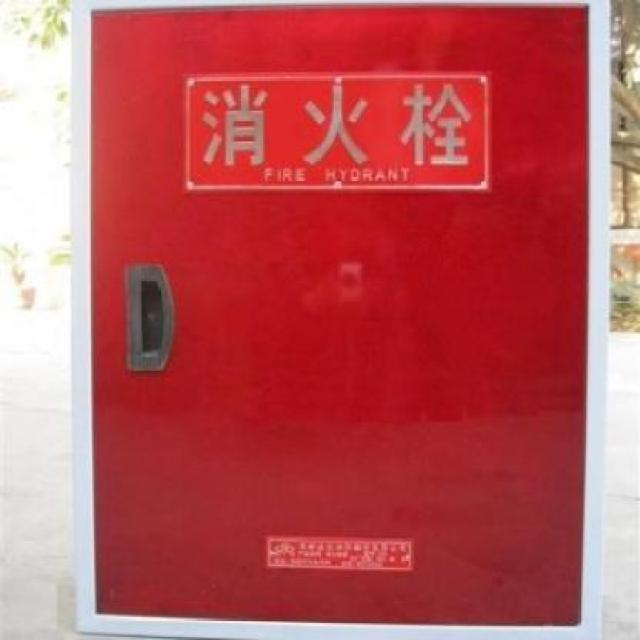firehydrant: (64, 0, 616, 640)
